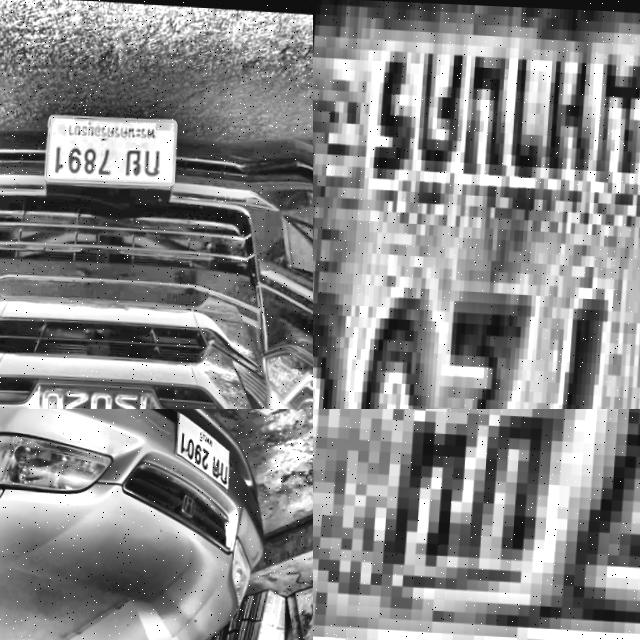license-plate: (313, 0, 640, 409), (313, 409, 640, 640), (33, 103, 184, 198), (174, 409, 237, 489)
